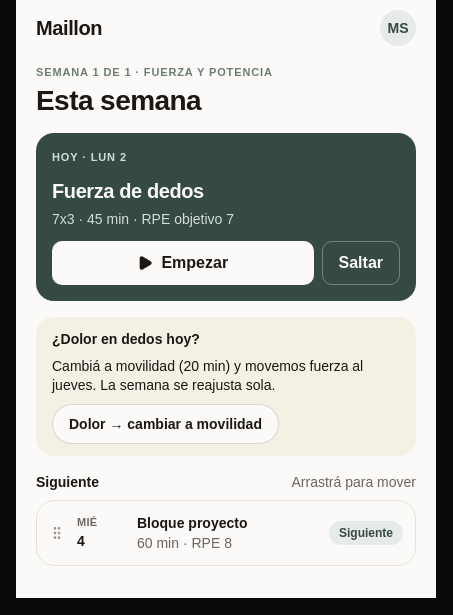
Test case: plan screen › shows the Maillon week and starts the next session by UUID
This screenshot has width=453, height=615.
Expected: the heading "Esta semana" is shown, left=36, top=84, right=201, bottom=116
Expected: the text "Semana 1 de 1 · Fuerza y potencia" is shown, left=36, top=66, right=273, bottom=78
Click the button "Empezar".
click(183, 263)  # box left=52, top=241, right=314, bottom=285
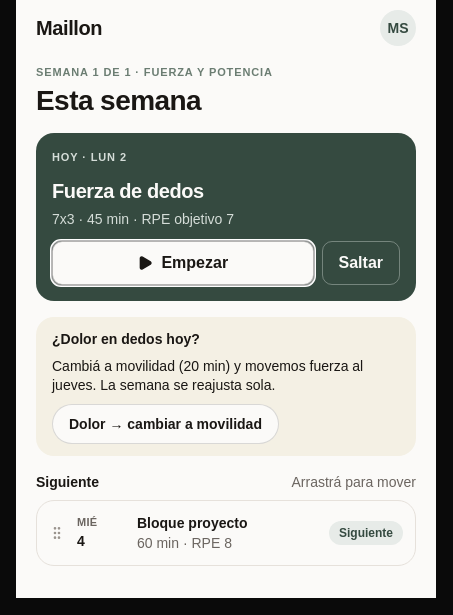
Click the button "Saltar".
click(361, 263)  # box left=322, top=241, right=400, bottom=285
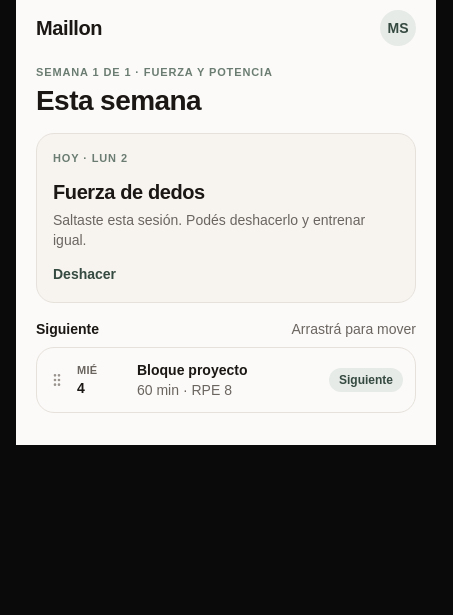
Now the text "Saltaste esta sesión. Podés deshacerlo y entrenar igual." is shown, box left=53, top=210, right=399, bottom=250
Click the button "Deshacer".
click(84, 274)  # box left=53, top=264, right=116, bottom=284
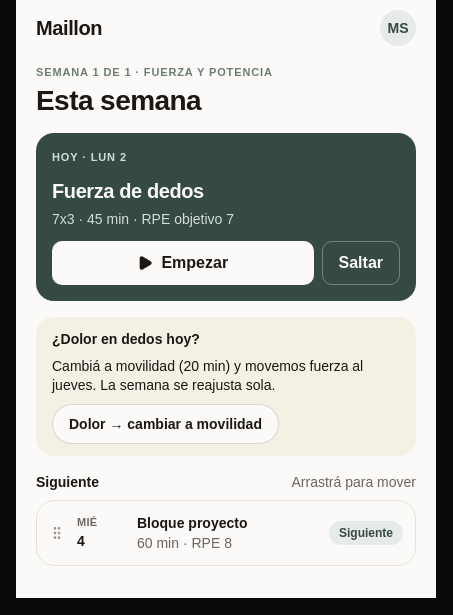
Click the button "Dolor → cambiar a movilidad".
click(165, 424)  # box left=52, top=404, right=279, bottom=444
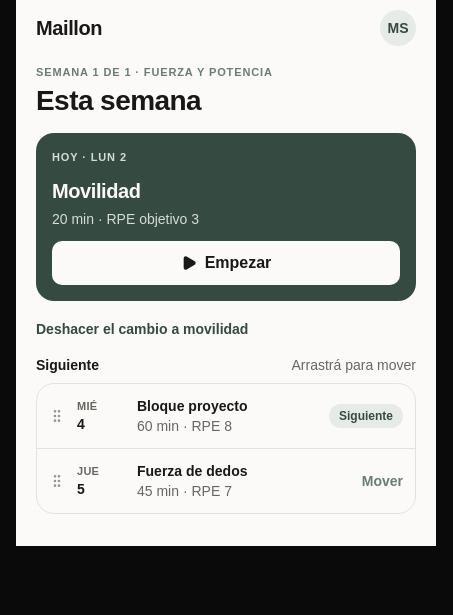
Expected: the text "Fuerza de dedos" is shown, left=137, top=463, right=248, bottom=479
Now the heading "Movilidad" is shown, box left=52, top=180, right=141, bottom=202
